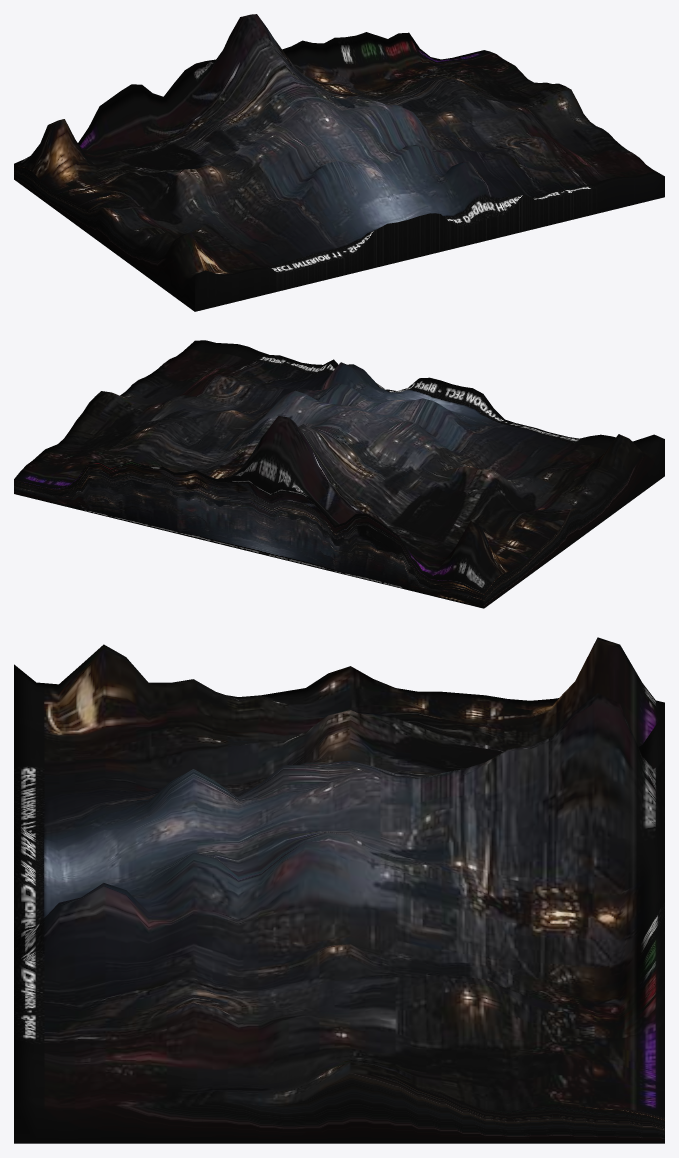
Rendered from SECT_INT_11_Shadow_Sect.glb.
The picture shows the model from 3 angles, top to bottom: view 1: azimuth 30°, elevation 25°; view 2: azimuth 150°, elevation 25°; view 3: azimuth 270°, elevation 25°; orthographic projection. The views are drawn at different scales.
Parts seen in each view (by area): view 1: SECT_INT_11_Shadow_Sect; view 2: SECT_INT_11_Shadow_Sect; view 3: SECT_INT_11_Shadow_Sect.
Boxes of the visible parts, <box> form: SECT_INT_11_Shadow_Sect: <box>14,14,664,311</box>; SECT_INT_11_Shadow_Sect: <box>14,340,664,608</box>; SECT_INT_11_Shadow_Sect: <box>14,637,664,1143</box>.
Bounding box in the file's own units: 2 × 0.51 × 1.33.
1 material, 1 textured.
